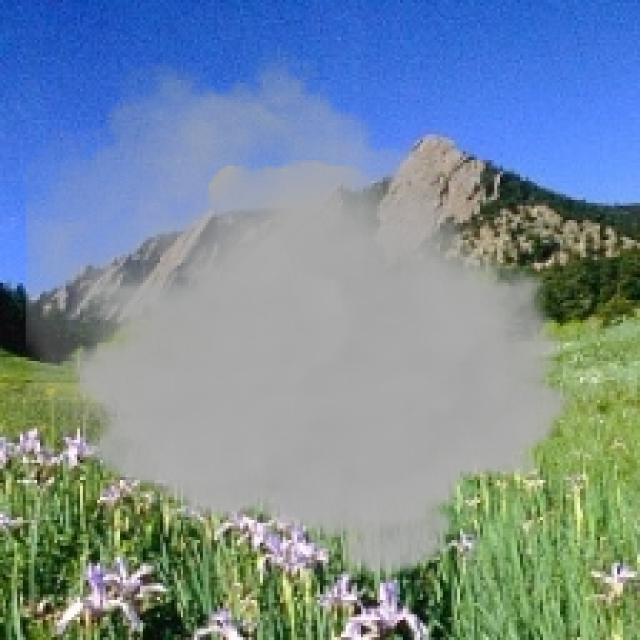smoke: (26, 46, 577, 580)
